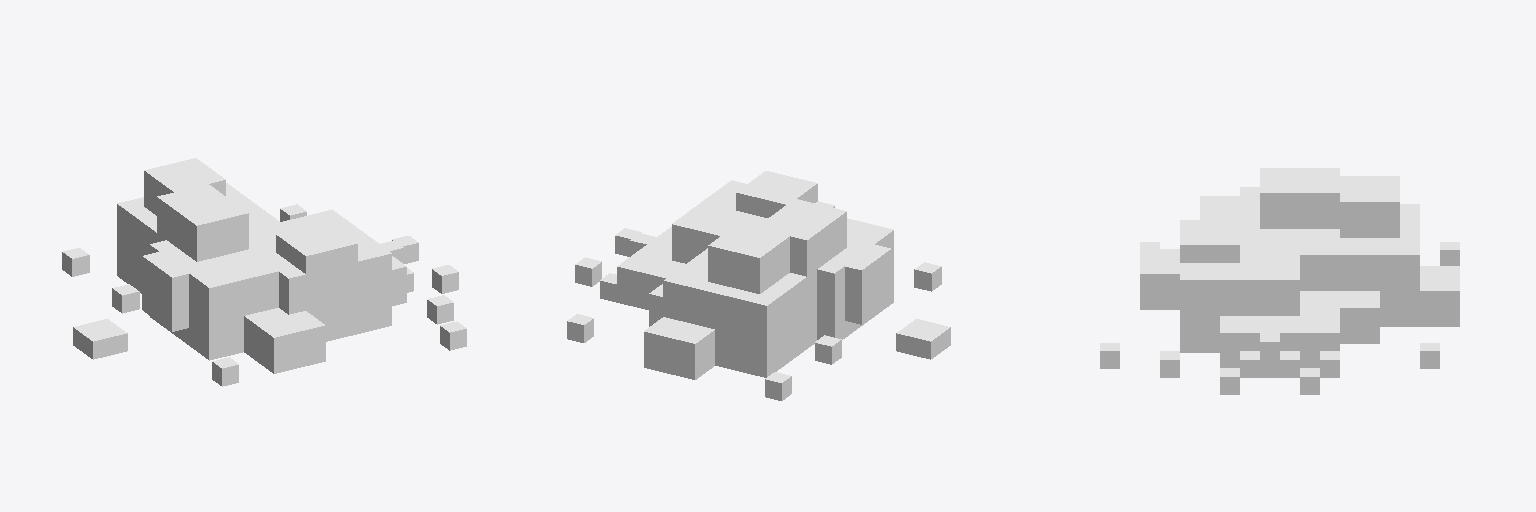
Rendered from VoxelNuke-12-TrashPile-2.obj.
The picture shows the model from 3 angles: view 1: azimuth 30°, elevation 25°; view 2: azimuth 150°, elevation 25°; view 3: azimuth 270°, elevation 25°; orthographic projection.
Parts seen in each view (by area): view 1: TrashPile-2; view 2: TrashPile-2; view 3: TrashPile-2.
Part boxes in pixels (bbox=[...]): TrashPile-2: bbox=[62, 158, 466, 386]; TrashPile-2: bbox=[567, 171, 950, 400]; TrashPile-2: bbox=[1100, 168, 1459, 394].
Bounding box in the file's own units: 0.4 × 0.12 × 0.36.